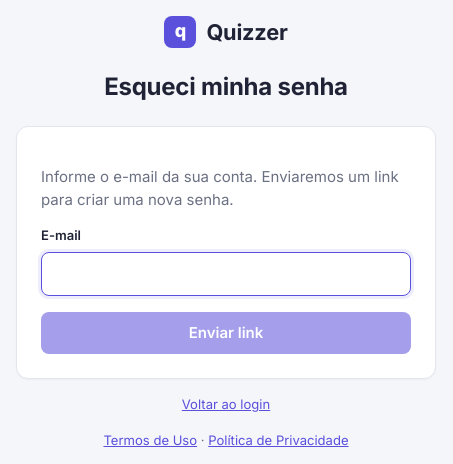
Test: Recuperação de senha (ADR-0041) › envia o pedido e mostra a mensagem neutra
In the field labelled "E-mail": [226, 274] box [41, 252, 411, 296], type "ana@escola.br"
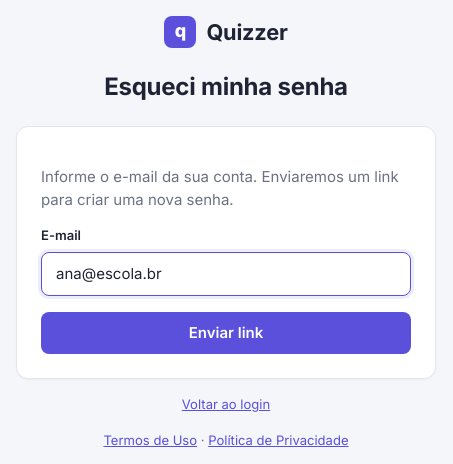
Click the button "Enviar link": [226, 333] box [41, 312, 411, 354]
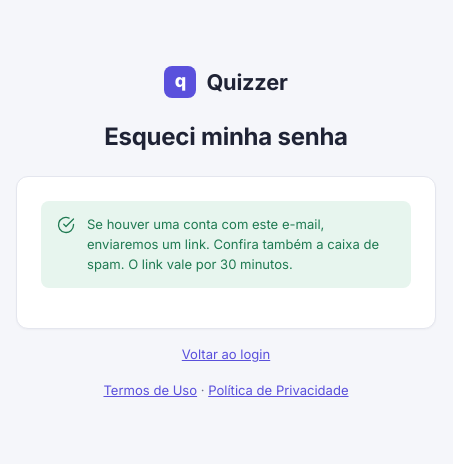
Check: the text "Se houver uma conta" is shown, box [87, 216, 324, 252]
